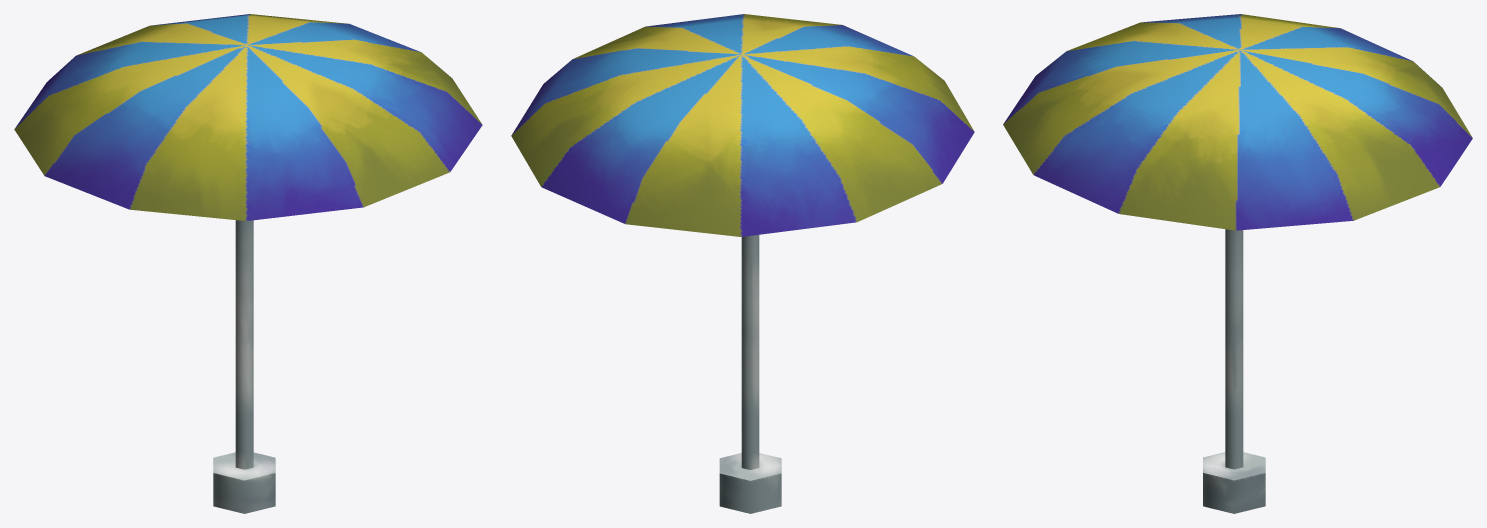
File: parasol_mesh.fbx
3 views of the same model, side by side, from view 1: azimuth 30°, elevation 25°; view 2: azimuth 150°, elevation 25°; view 3: azimuth 270°, elevation 25° (orthographic).
Visible parts, largest first — view 1: parasol_mesh; view 2: parasol_mesh; view 3: parasol_mesh.
Part boxes in pixels (x1=…): parasol_mesh: x1=14, y1=14, x2=482, y2=513; parasol_mesh: x1=511, y1=14, x2=974, y2=513; parasol_mesh: x1=1003, y1=14, x2=1472, y2=513.
Bounding box in the file's own units: 1.41 × 1.49 × 1.41.
